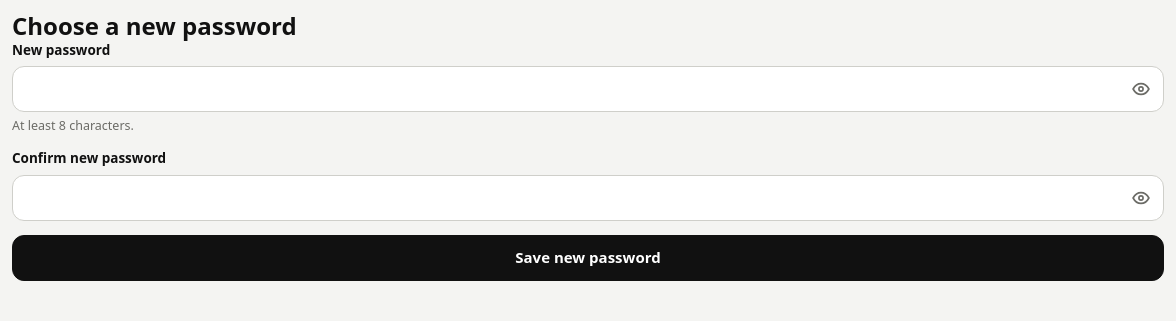
it: ResetForm › asks for the same password twice and re-checks when the first one changes
Type "orange kettle dru" into the password field labelled "New password". click: {"x": 588, "y": 89}
box: [12, 66, 1164, 112]
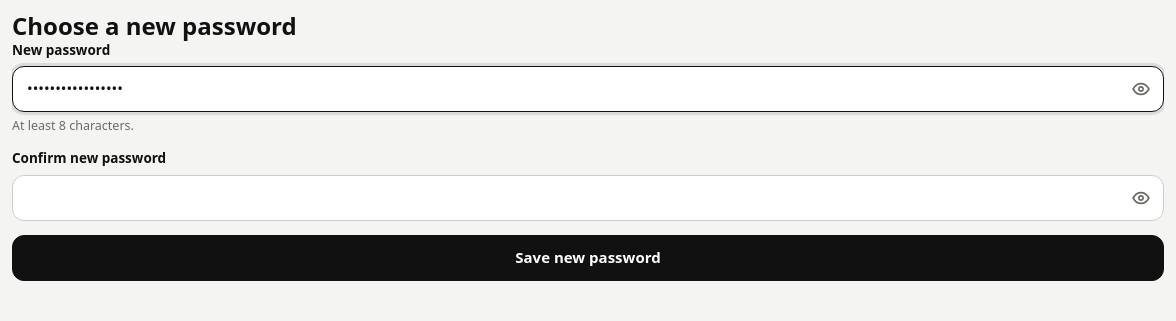
Type "orange kettle drum" into the password field labelled "Confirm new password". click: {"x": 588, "y": 198}
box: [12, 175, 1164, 221]
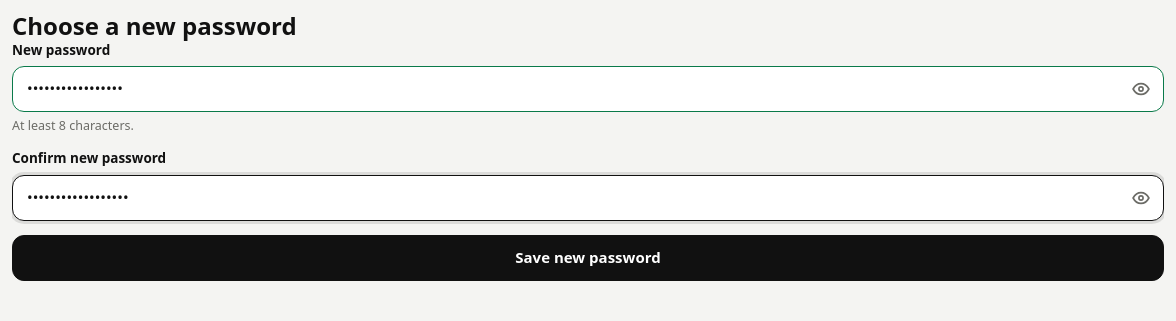
Press Tab
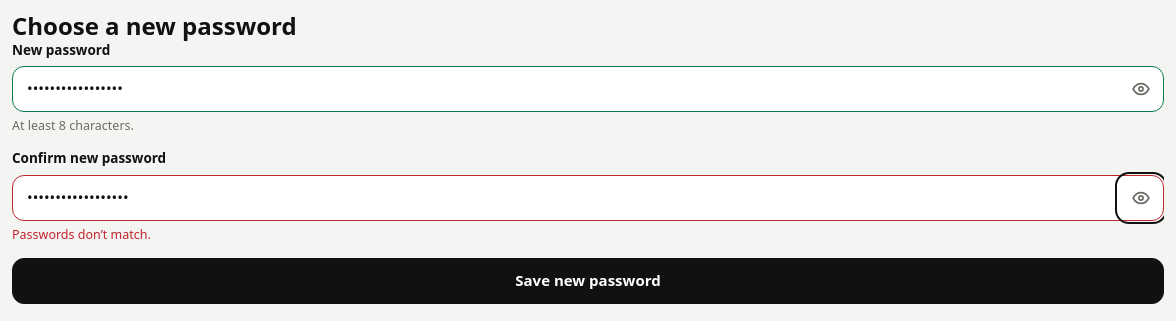
Check: the text "Passwords don’t match." is shown, box [12, 226, 151, 243]
Type "m" into the password field labelled "New password". click: {"x": 588, "y": 89}
box: [12, 66, 1164, 112]
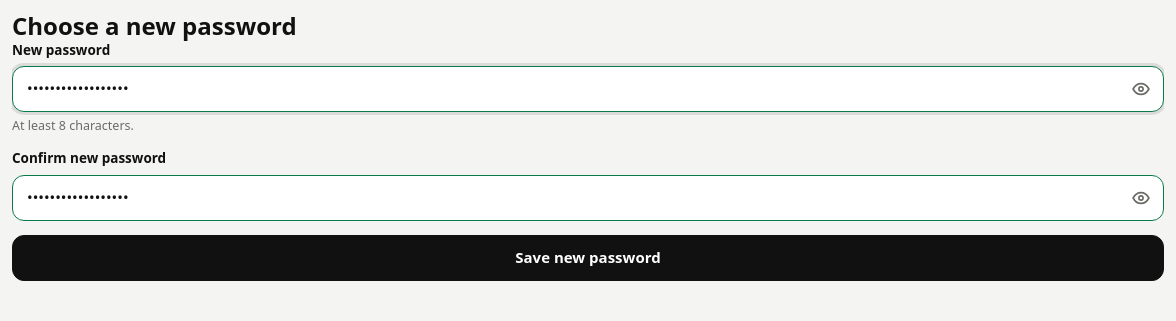
Check: the text "Passwords don’t match." is gone
Type "x" into the password field labelled "New password". click: {"x": 588, "y": 89}
box: [12, 66, 1164, 112]
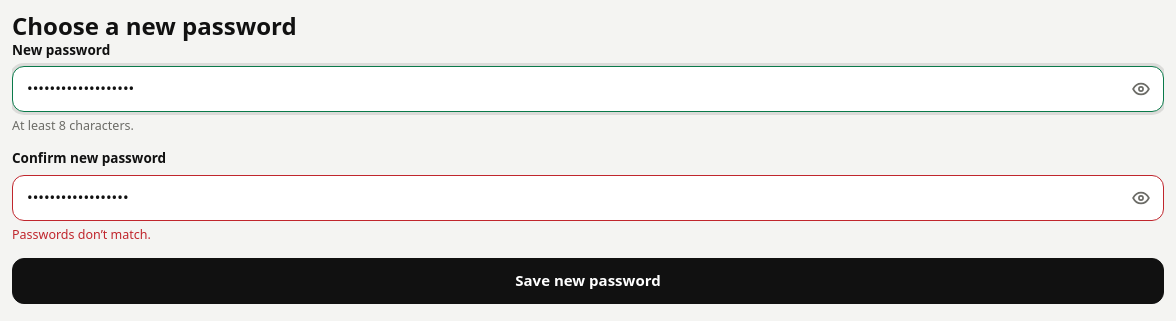
Check: the text "Passwords don’t match." is shown, box [12, 226, 151, 243]
